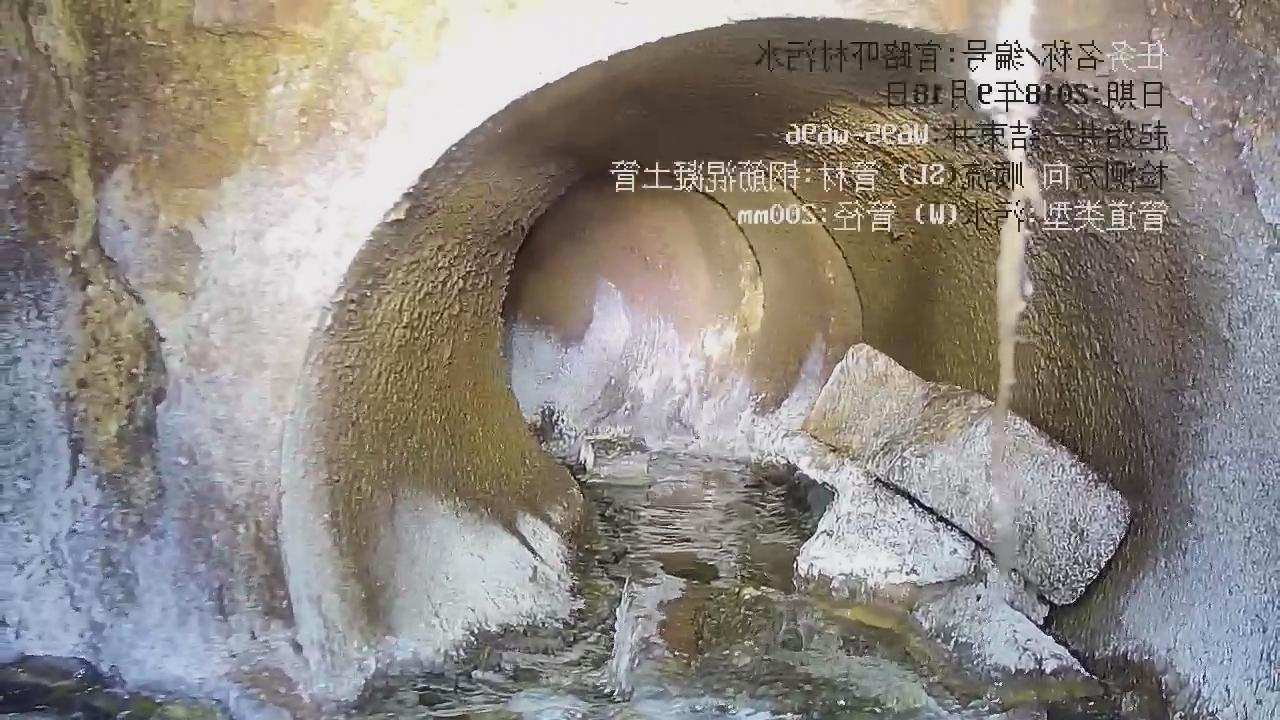ZAW: (764, 343, 1129, 671)
